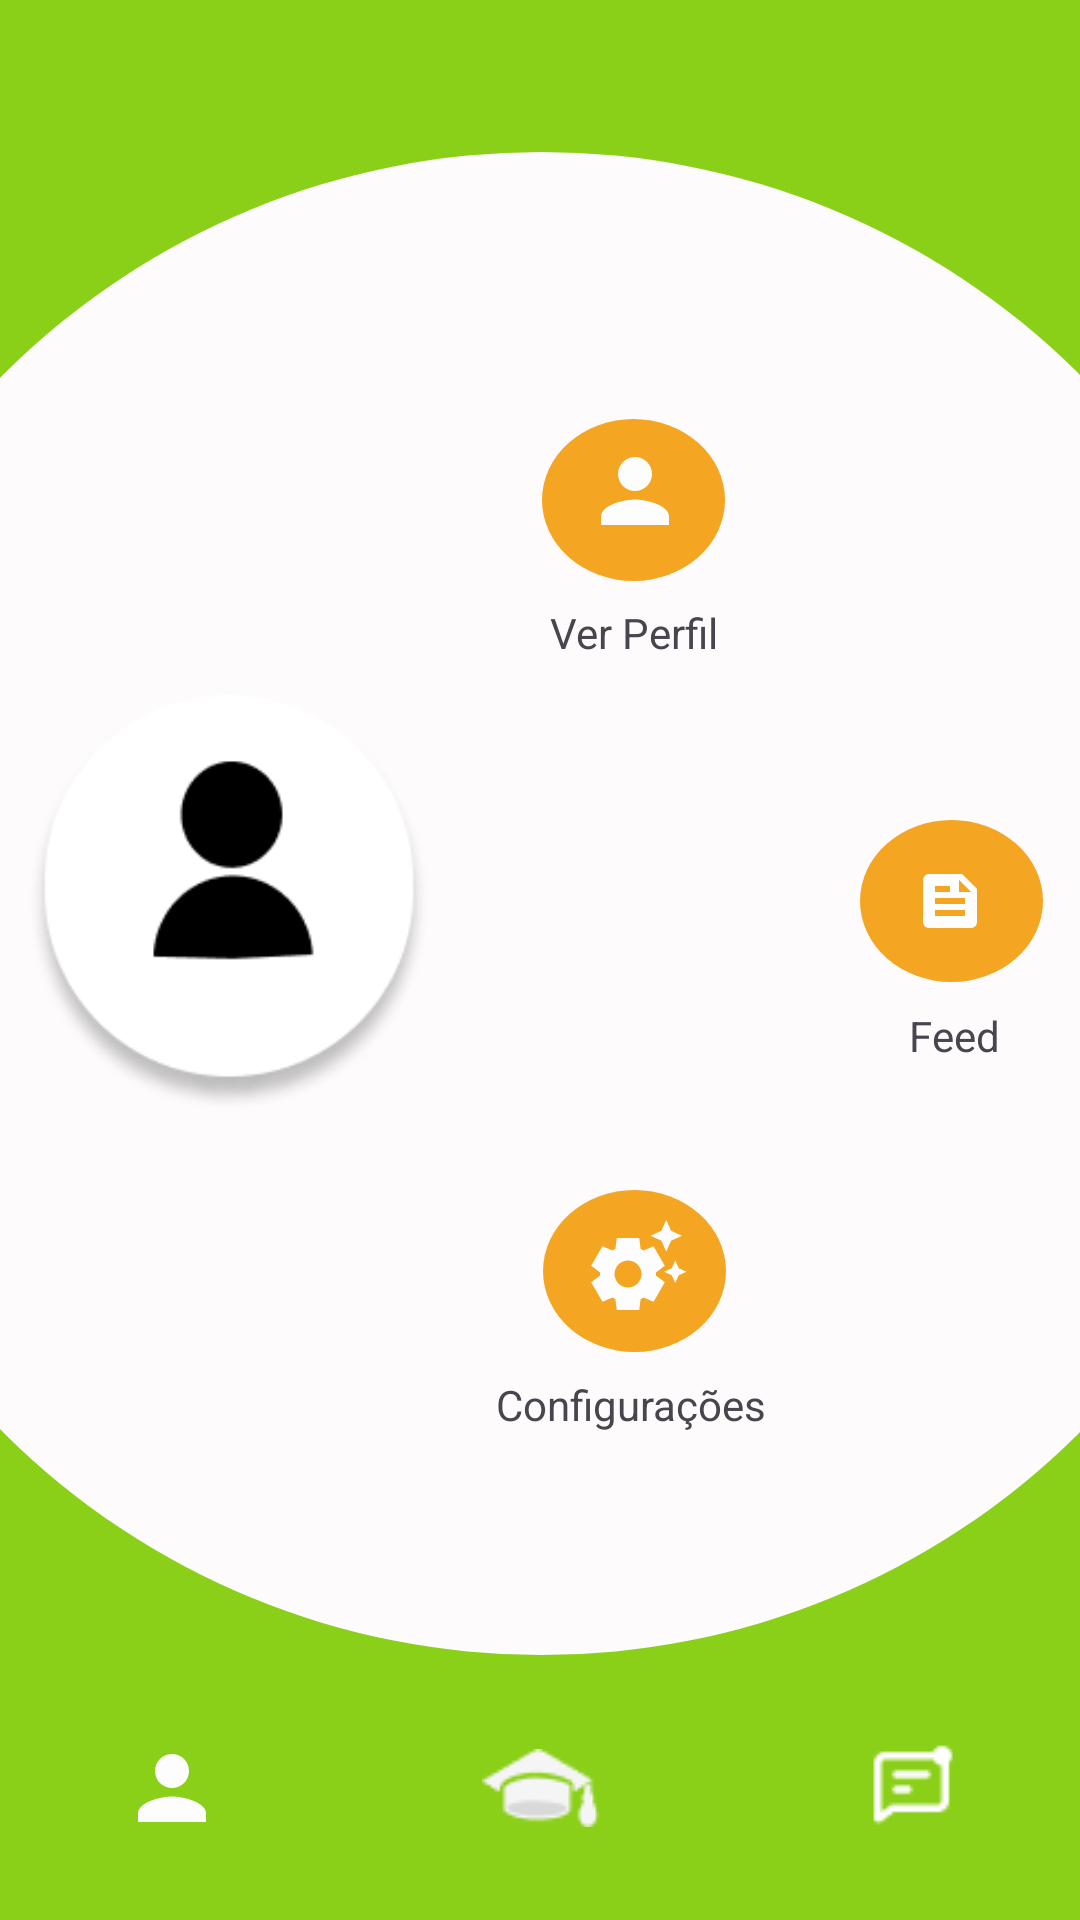

Locate icon controls on the screen. Image size 1080w x 1920h, boxes as (x1, y1, x2, y2).
notifimenuwhite: (873, 1745, 953, 1825)
